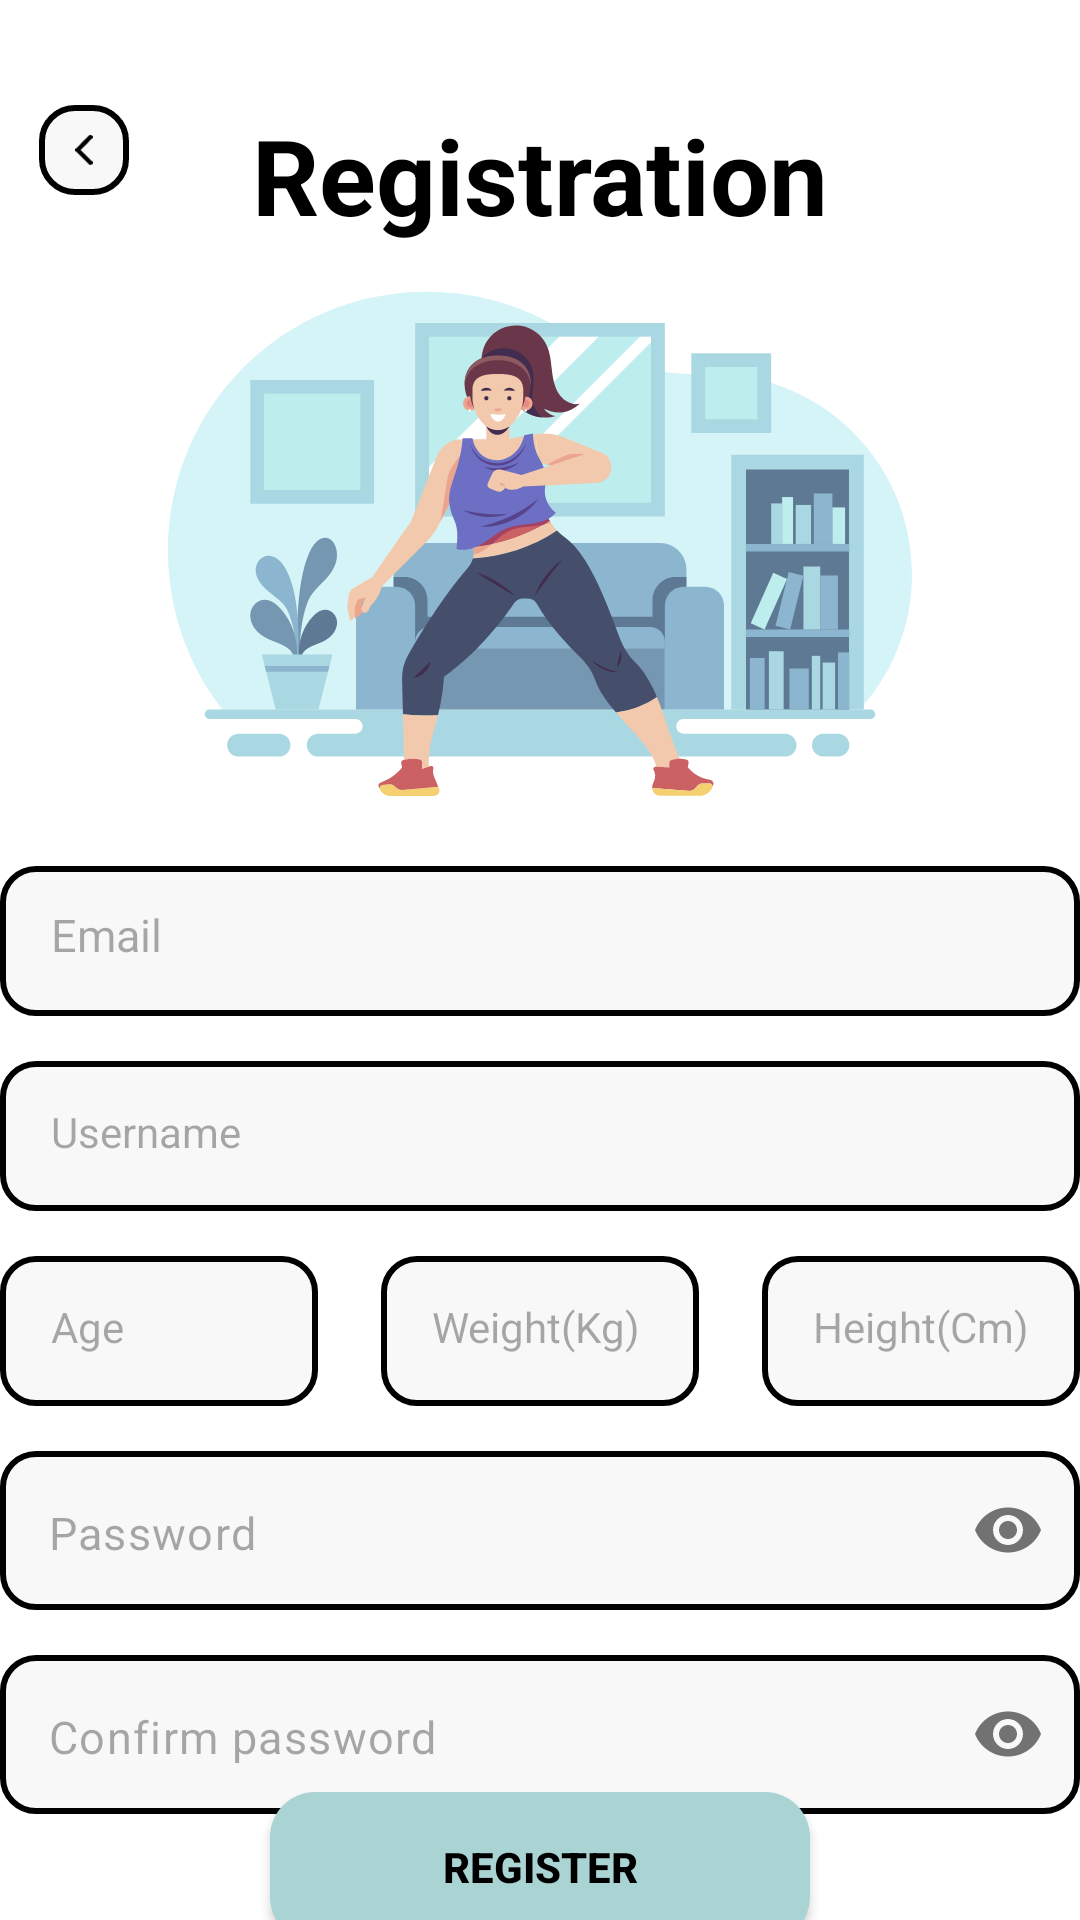

Named icons in this screenshot (1080*1920) and their centers, (x,y):
arrow back: (84,150)
